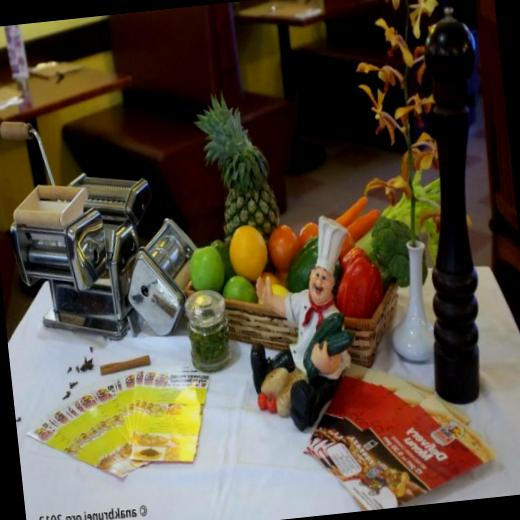Mango: (189, 81, 285, 255)
